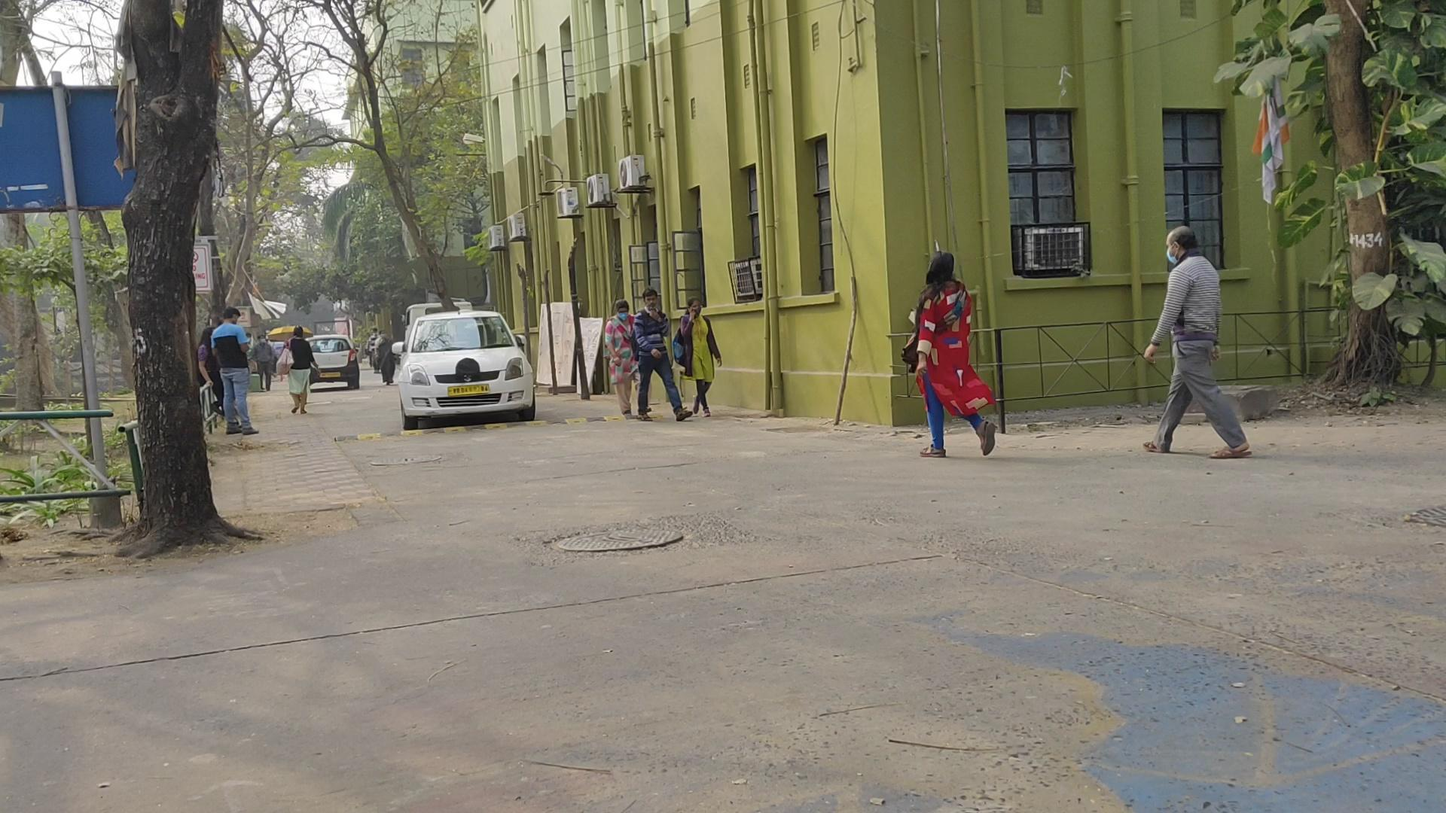car: (394, 310, 536, 430), (296, 334, 360, 391)
